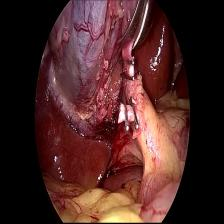Scissors: (114, 0, 158, 55)
